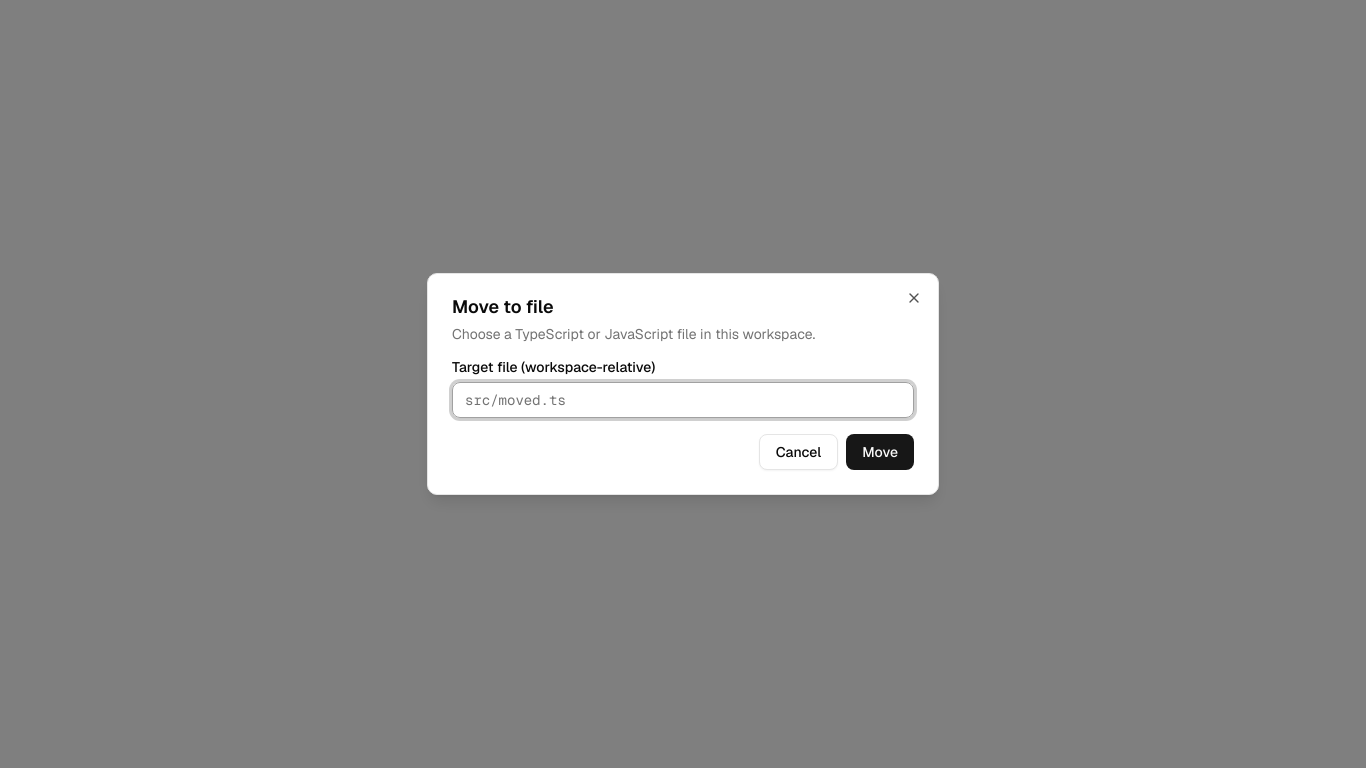
Test: Move to file dialog › rejects target notes.md with an accessible validation message
In the field labelled "Target file (workspace-relative)": (683, 400) left=452, top=382, right=914, bottom=418, type "notes.md"
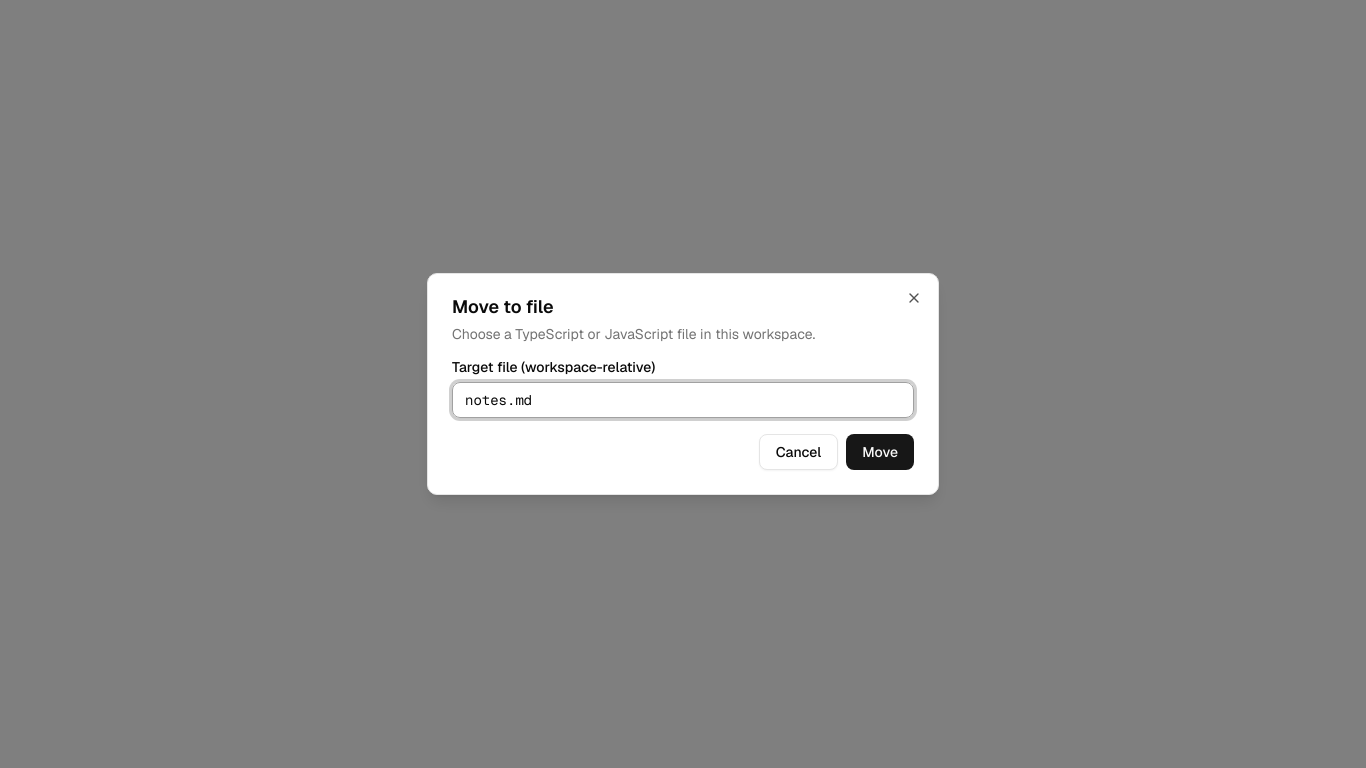
Click the button "Move": (880, 452) left=846, top=434, right=914, bottom=470
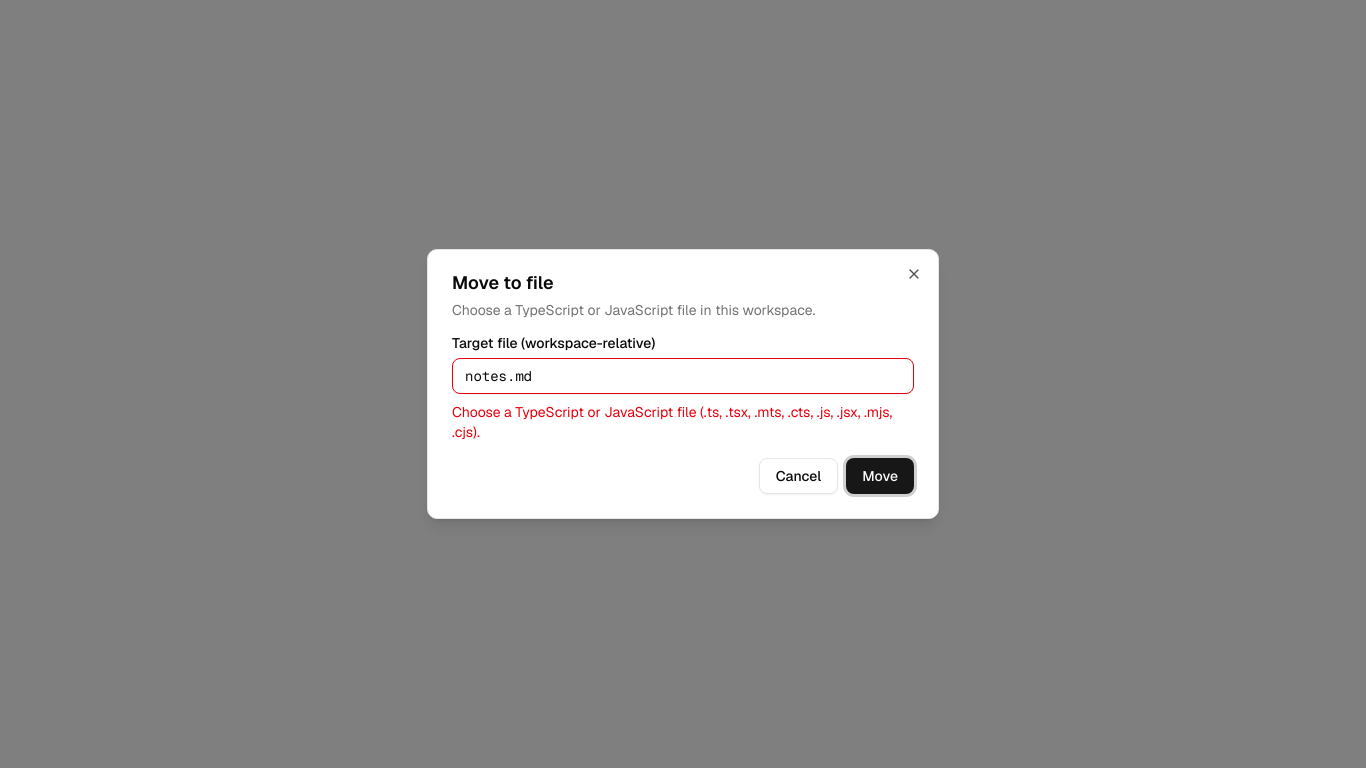
Expected: the message shows "Choose a TypeScript or JavaScript file", left=452, top=403, right=892, bottom=441
